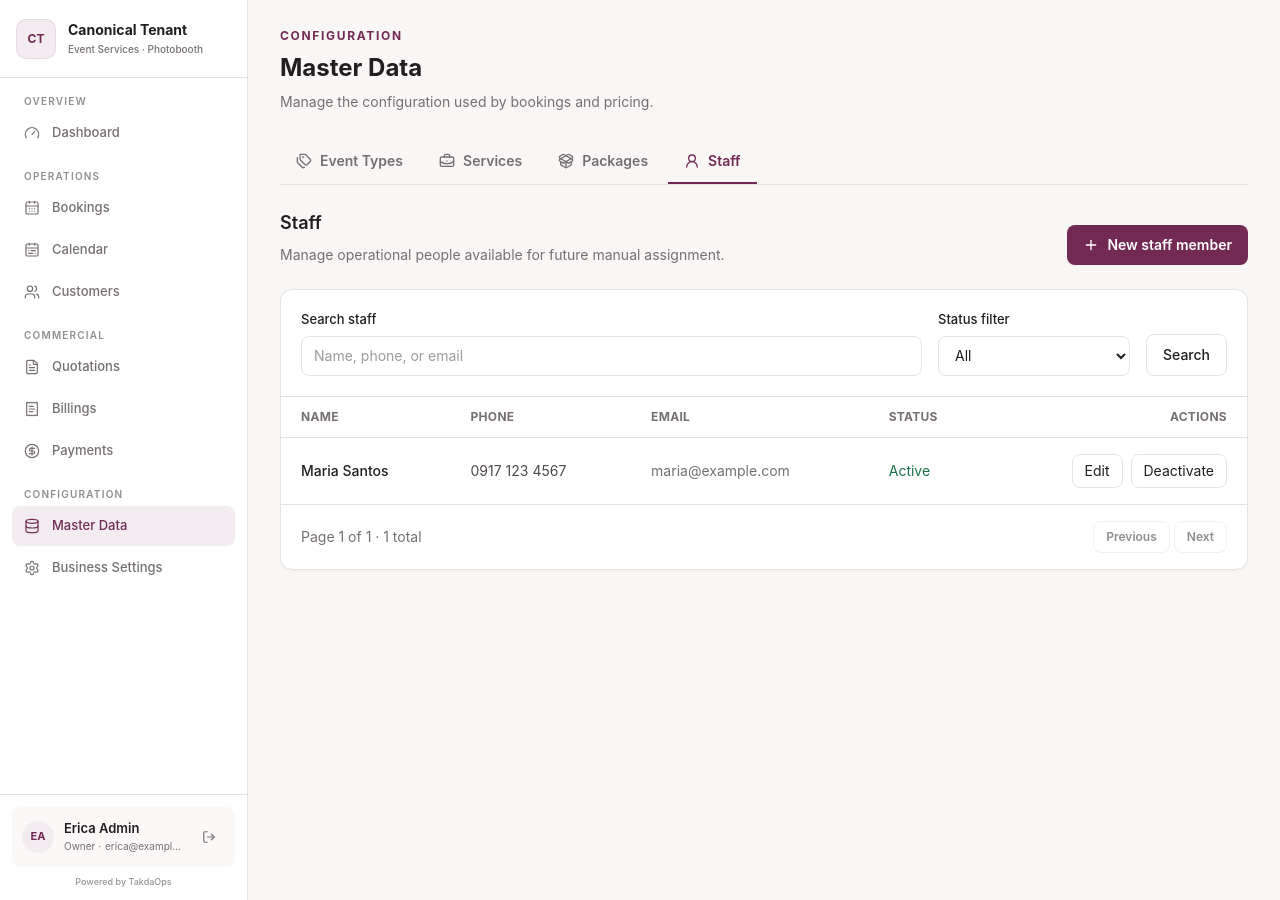
Test: deactivates staff
This screenshot has width=1280, height=900.
Step 1. Click the button "Deactivate" → click(1179, 470), box [1130, 454, 1227, 488]
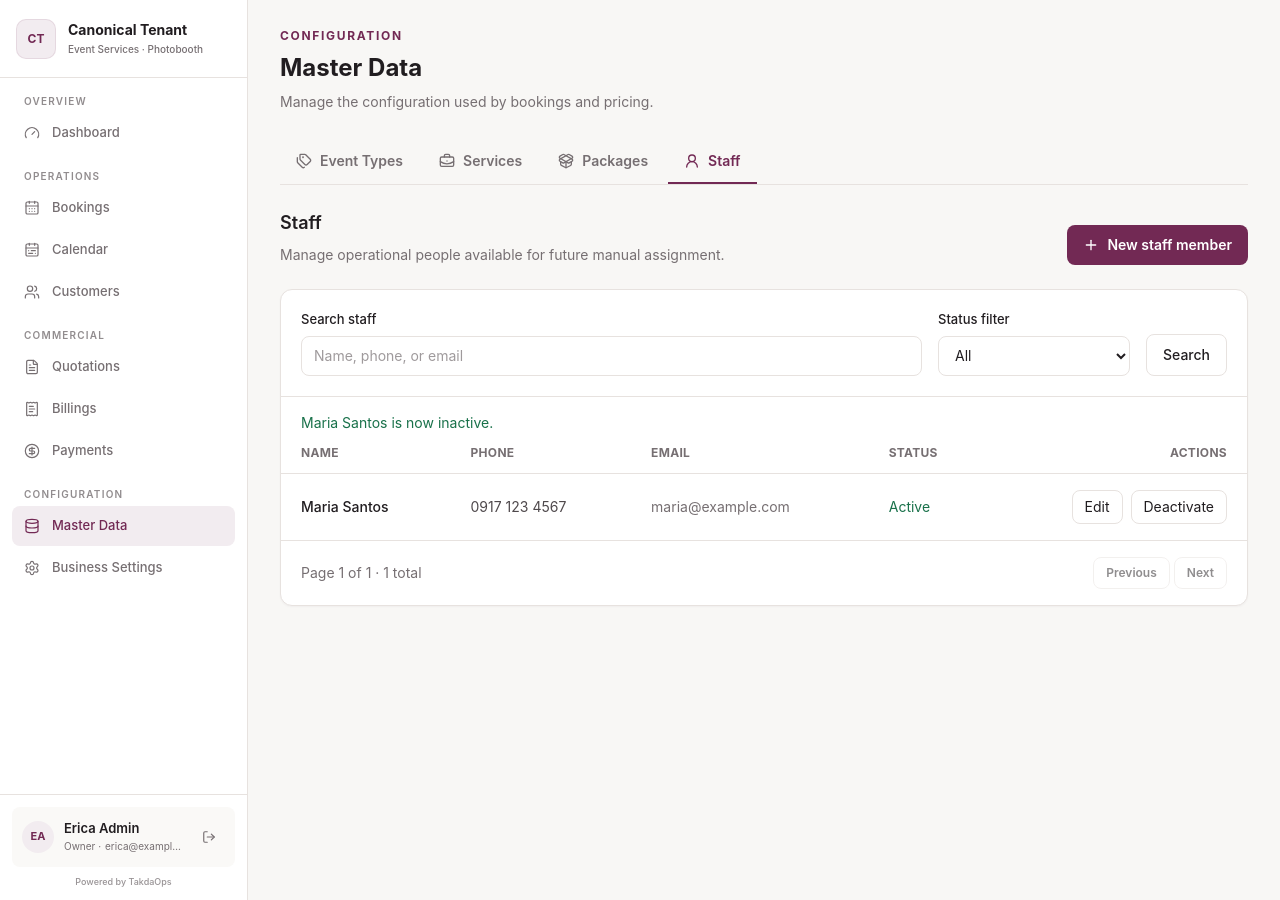
Now the text "Maria Santos is now inactive." is shown, box [301, 414, 493, 430]
